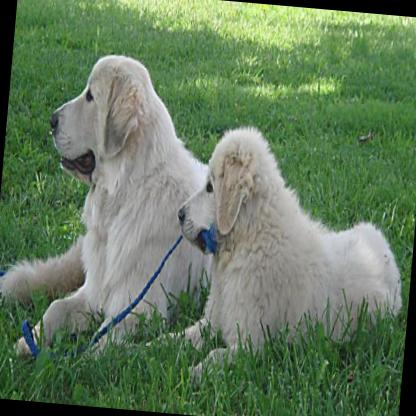Great_Pyrenees: (0, 37, 231, 377), (163, 118, 416, 398)
